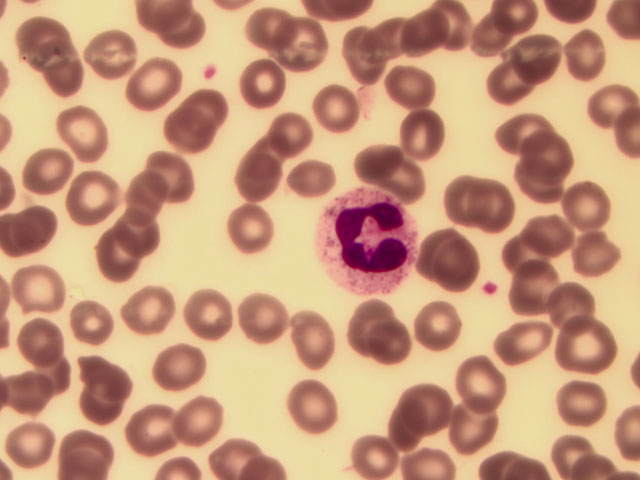Platelets: (202, 61, 221, 86), (482, 281, 499, 300)
RBC: (17, 10, 69, 65), (41, 51, 93, 106), (84, 29, 136, 84), (127, 54, 179, 109), (61, 105, 113, 160), (21, 140, 73, 195), (65, 171, 117, 226), (116, 161, 168, 216), (144, 148, 196, 203), (165, 107, 217, 162), (180, 84, 232, 139), (242, 52, 294, 107), (284, 18, 336, 73), (236, 2, 288, 57), (312, 85, 364, 140), (256, 105, 308, 160), (241, 132, 293, 187), (218, 203, 270, 258), (294, 149, 346, 204), (358, 130, 410, 185), (373, 153, 425, 208), (395, 102, 447, 157), (391, 57, 443, 112), (339, 25, 391, 80), (367, 11, 419, 66), (409, 8, 461, 63), (430, 2, 482, 57), (460, 11, 512, 66), (509, 35, 561, 90), (479, 65, 531, 120), (564, 30, 616, 85), (586, 78, 638, 133), (494, 104, 546, 159), (517, 125, 569, 180), (466, 172, 518, 227), (433, 174, 485, 229), (430, 247, 482, 302), (403, 221, 455, 276), (490, 224, 542, 279), (534, 212, 586, 267), (567, 172, 619, 227), (568, 246, 620, 301), (551, 279, 603, 334), (558, 317, 610, 372), (495, 324, 547, 379), (457, 352, 509, 407), (439, 411, 491, 466), (410, 383, 462, 438), (347, 425, 399, 480), (283, 373, 335, 428), (374, 319, 426, 374), (429, 291, 481, 346), (343, 297, 395, 352), (293, 310, 345, 365), (236, 286, 288, 341), (181, 289, 233, 344), (157, 341, 209, 396), (128, 281, 180, 336), (92, 234, 144, 289), (120, 210, 172, 265), (9, 263, 61, 318), (15, 198, 67, 253), (70, 300, 122, 355), (9, 320, 61, 375), (80, 352, 132, 407), (61, 425, 113, 480), (5, 415, 57, 470), (127, 398, 179, 453), (185, 393, 237, 448), (555, 374, 607, 429)
WBC: (314, 188, 420, 294)
